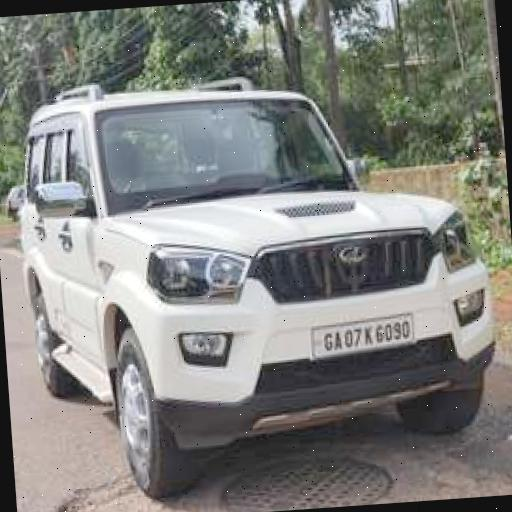license_plate`: (310, 311, 414, 356)
